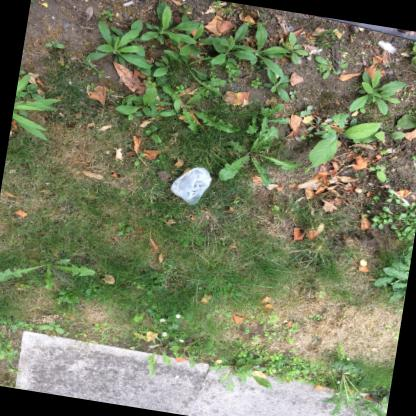Plastic: (170, 166, 212, 203)
